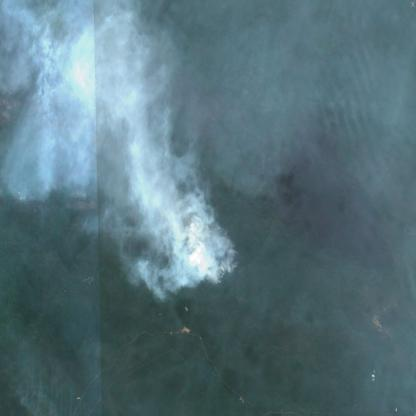fire: (187, 222, 243, 289)
